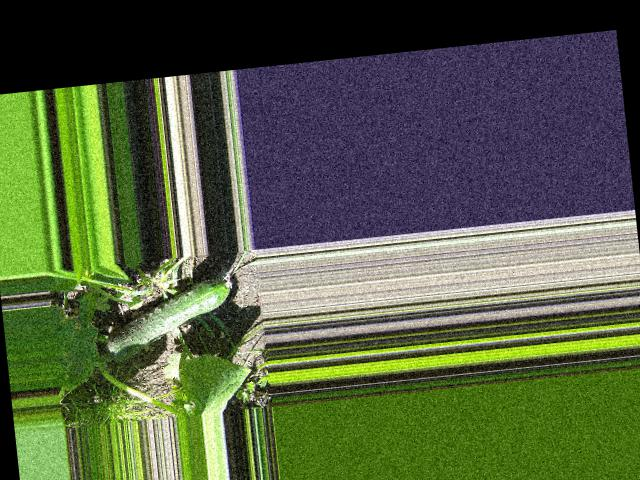cucumber: (98, 277, 238, 363)
